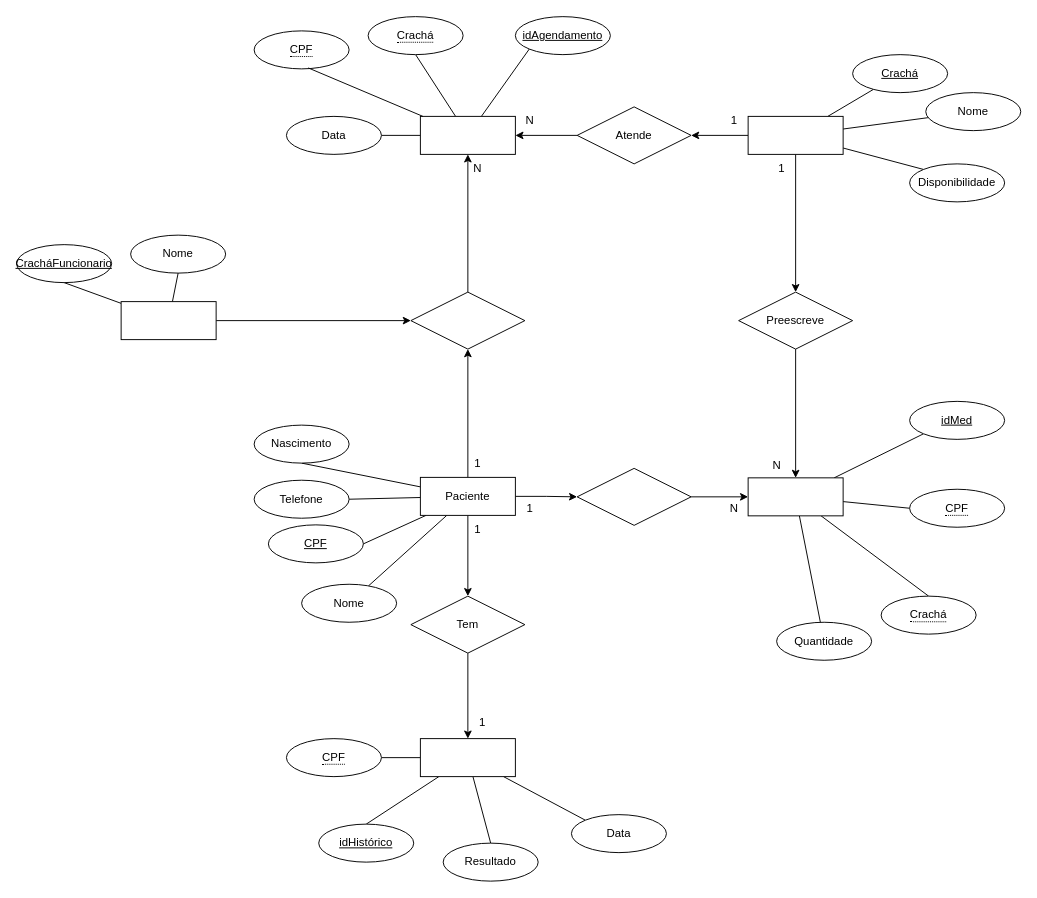
Some shapes in this 1037 by 898 pixel diagram are drawn without their labels. The centre of each missing label's shape, as x and y in pixels:
"Agendamento" belongs at (467,134).
"Funcionário" belongs at (168,320).
"Histórico médico" belongs at (467,757).
"Médico" belongs at (795,134).
"Pega" belongs at (633,496).
"Prescrição médica" belongs at (795,496).
"Realiza" belongs at (467,320).
